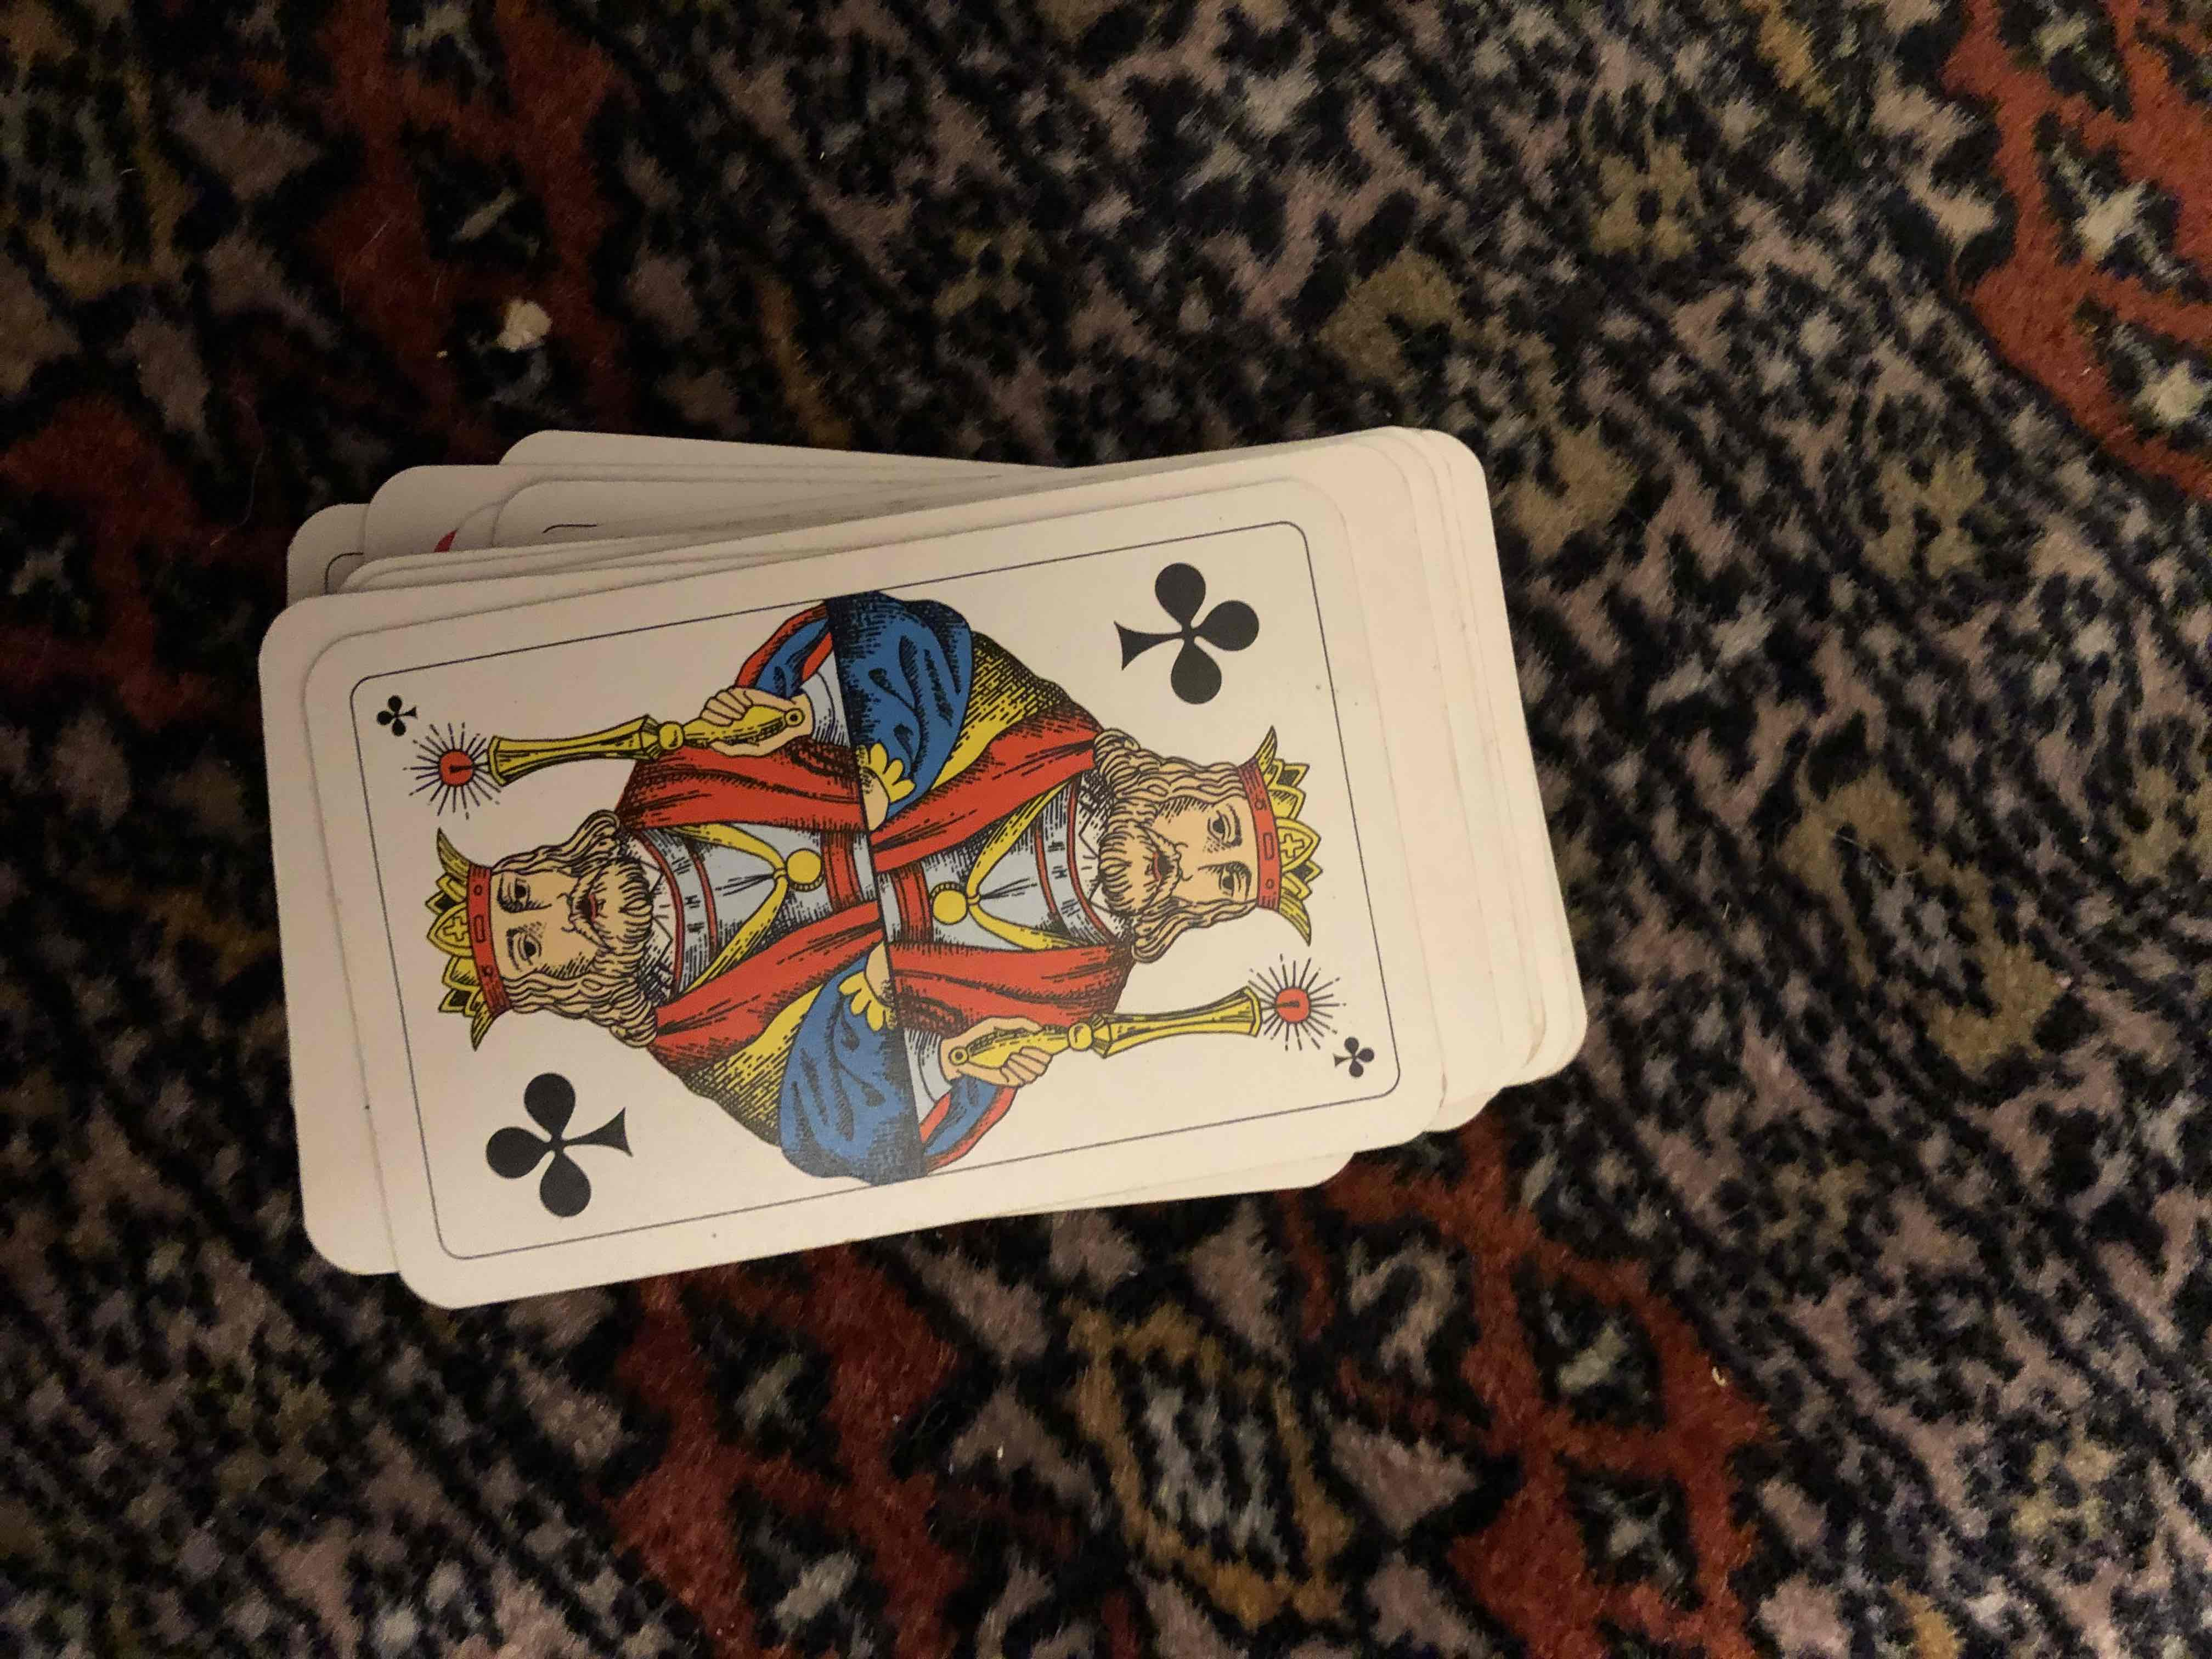clubsKing: (343, 511, 1489, 1208)
